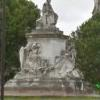Statue: (18, 1, 81, 85)
